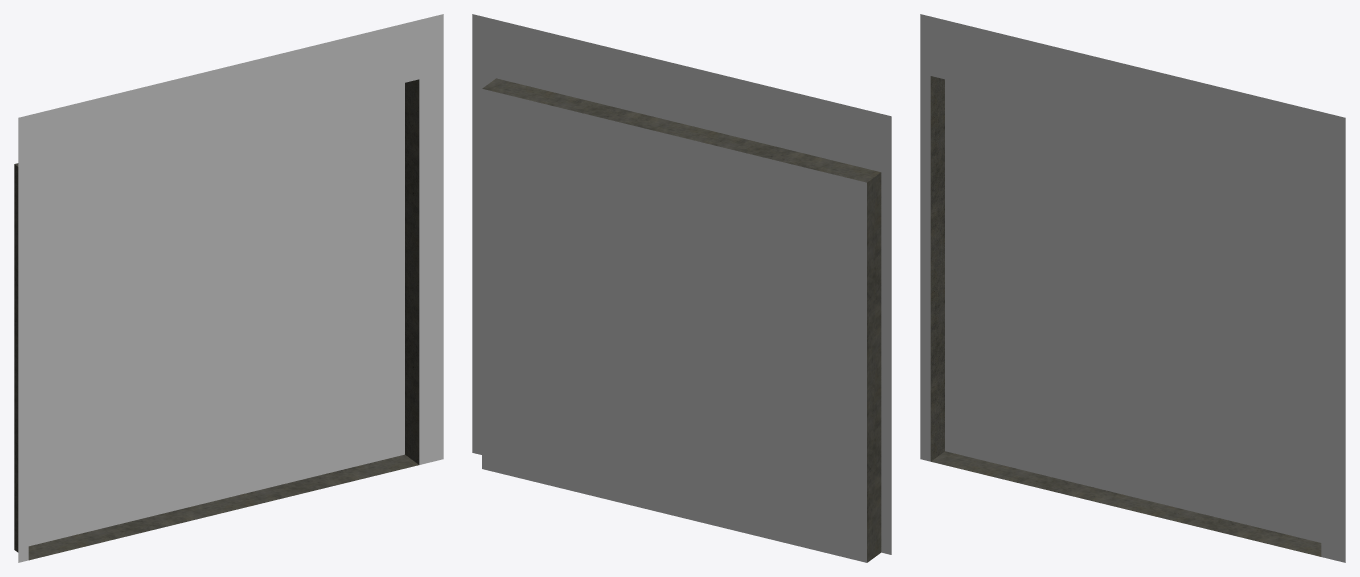
Rendered from CT_door_02.fbx.
3 renders of one model, left to right at view 1: azimuth 30°, elevation 25°; view 2: azimuth 150°, elevation 25°; view 3: azimuth 330°, elevation 25°, orthographic.
Parts seen in each view (by area): view 1: CT_door_02; view 2: CT_door_02; view 3: CT_door_02.
Part boxes in pixels (box(x1,y1,x2,y2)): CT_door_02: box(14, 14, 443, 562); CT_door_02: box(472, 14, 891, 562); CT_door_02: box(920, 14, 1345, 562).
Bounding box in the file's own units: 256 × 256 × 15.
